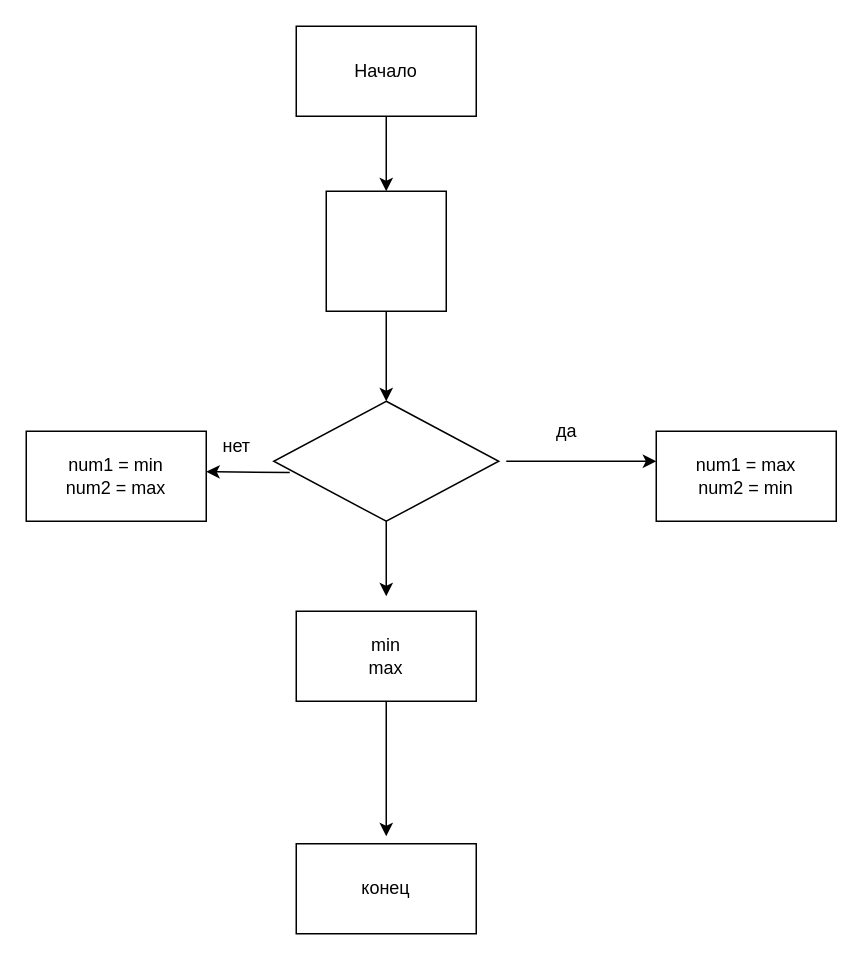
Image size: 863x960. Some labels were removed from this diagram. Here are the shapes that lost their labels. From the top down, the box of each, then its label:
(325, 190, 446, 311): num1=9 num2=17 min=0 max=0
(272, 400, 499, 521): if num1>num2
